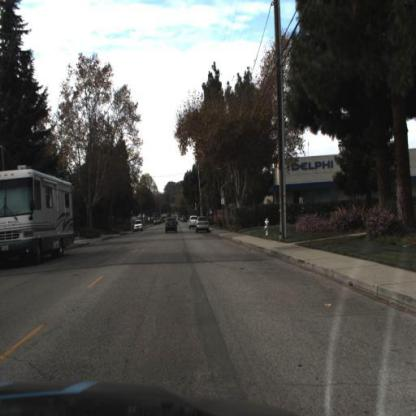car: (163, 212, 181, 238), (195, 215, 211, 236), (132, 218, 145, 233), (188, 214, 200, 230)
truck: (1, 159, 75, 274)
